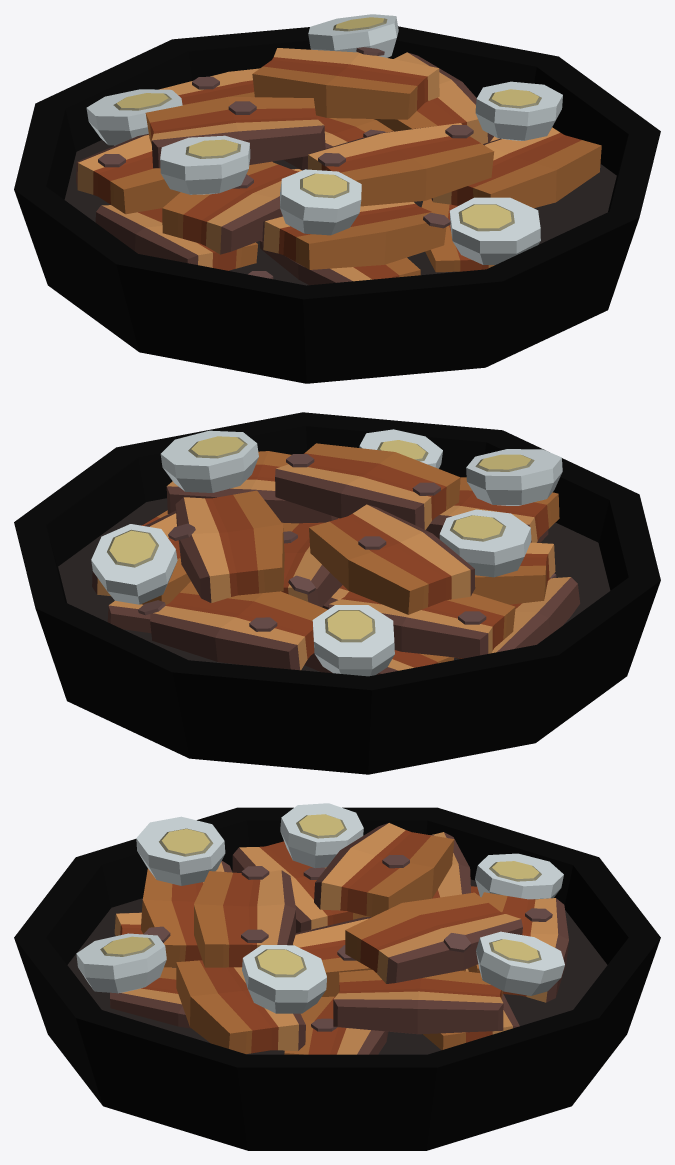
Rendered from FINAL_Adobo sa Pula.fbx.
The picture shows the model from 3 angles, top to bottom: view 1: azimuth 30°, elevation 25°; view 2: azimuth 150°, elevation 25°; view 3: azimuth 270°, elevation 25°; orthographic projection. The views are drawn at different scales.
Parts seen in each view (by area): view 1: Adobo sa Pula; view 2: Adobo sa Pula; view 3: Adobo sa Pula.
Boxes of the visible parts, x1,y1,x2,y2 form: Adobo sa Pula: [14, 14, 660, 383]; Adobo sa Pula: [14, 412, 660, 774]; Adobo sa Pula: [14, 803, 660, 1150].
Size of the model in its own units: 112 by 30.75 by 118.
